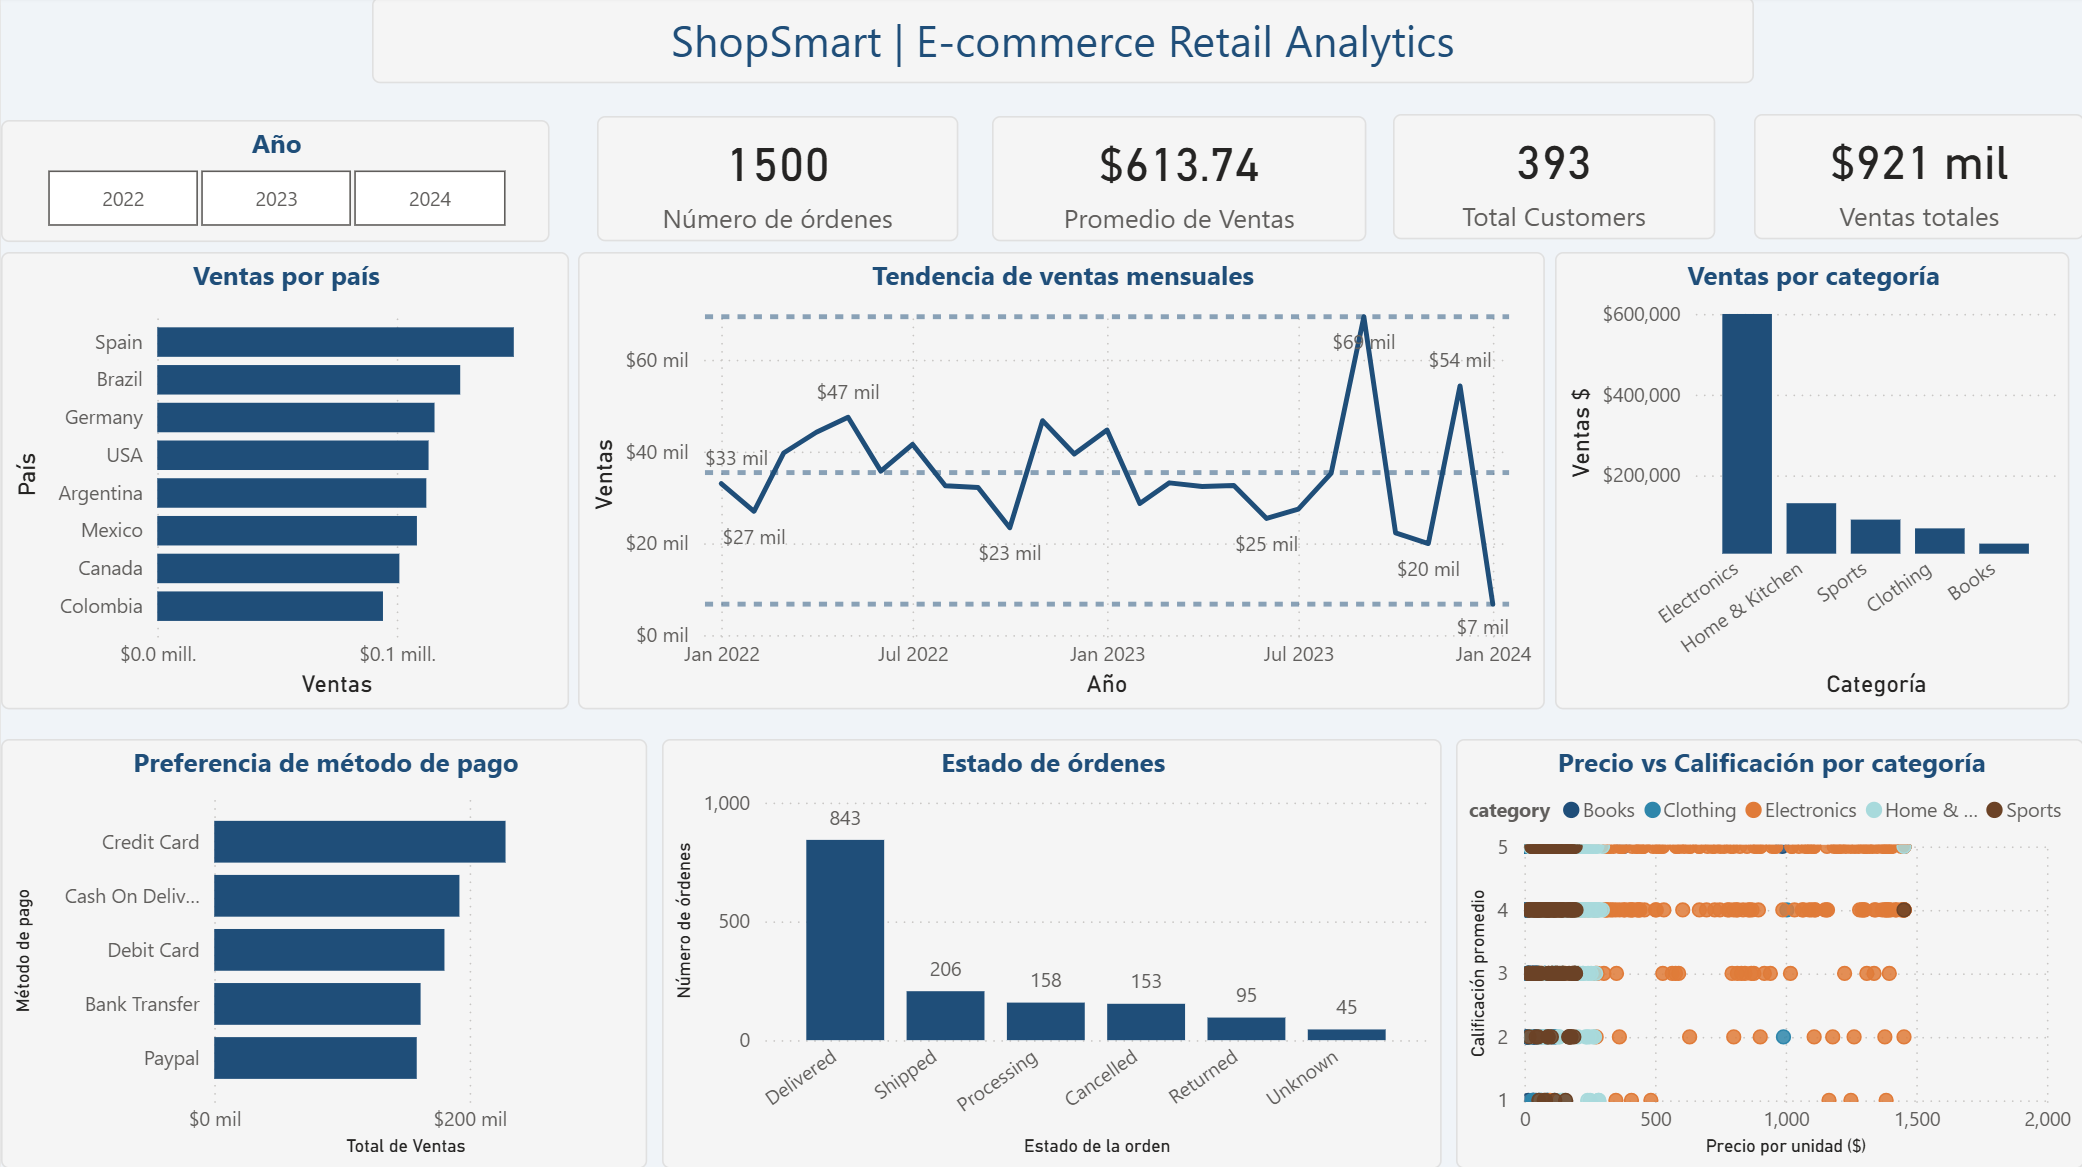

What the dashboard file says about the page in this screenshot:
{"tool":"powerbi","page":{"name":"Página 1","canvas":[1280,720],"ordinal":0},"visuals":[{"type":"columnChart","title":"Ventas por categoría","fields":{"Category":["POWERBIecommerce_featured.category"],"Y":["Sum(POWERBIecommerce_featured.total_amount)"]},"box":[954.7,156.7,316,281.3],"z":0},{"type":"clusteredBarChart","title":"Ventas por país","fields":{"Category":["POWERBIecommerce_featured.country"],"Y":["Sum(POWERBIecommerce_featured.total_amount)"]},"box":[0,156.7,348.7,281.3],"z":1000},{"type":"lineChart","title":"Tendencia de ventas mensuales","fields":{"Y":["Sum(POWERBIecommerce_featured.total_amount)"],"Category":["POWERBIecommerce_featured.order_date.Variación.Jerarquía de fechas.Año","POWERBIecommerce_featured.order_date.Variación.Jerarquía de fechas.Trimestre","POWERBIecommerce_featured.order_date.Variación.Jerarquía de fechas.Mes"]},"box":[354.7,156.7,594,281.3],"z":2000},{"type":"clusteredBarChart","title":"Preferencia de método de pago","fields":{"Category":["POWERBIecommerce_featured.payment_method"],"Y":["Sum(POWERBIecommerce_featured.total_amount)"]},"box":[0,456,397.3,264],"z":3000},{"type":"card","fields":{"Values":["CountNonNull(POWERBIecommerce_featured.order_id)"]},"box":[366,73.3,222,76.7],"z":4000},{"type":"card","fields":{"Values":["Sum(POWERBIecommerce_featured.total_amount)"]},"box":[1076.7,72,203.3,76.7],"z":5000},{"type":"card","fields":{"Values":["POWERBIecommerce_featured.Avg Order Value"]},"box":[608.7,73.3,230,76.7],"z":6000},{"type":"scatterChart","title":"Precio vs Calificación por categoría","fields":{"X":["Sum(POWERBIecommerce_featured.unit_price)"],"Y":["Sum(POWERBIecommerce_featured.rating)"],"Category":["POWERBIecommerce_featured.order_id"],"Series":["POWERBIecommerce_featured.category"]},"box":[894,456,386,264],"z":7000},{"type":"columnChart","title":"Estado de órdenes","fields":{"Category":["POWERBIecommerce_featured.order_status"],"Y":["CountNonNull(POWERBIecommerce_featured.order_id)"]},"box":[406,456,478.7,264],"z":8000},{"type":"card","fields":{"Values":["POWERBIecommerce_featured.Total Customers"]},"box":[855.3,72,198,76.7],"z":9000},{"type":"textbox","box":[227.8,0,848.9,53.3],"z":10000},{"type":"slicer","title":"Año","fields":{"Values":["POWERBIecommerce_featured.year"]},"box":[0,75.3,336.7,74.7],"z":11000}]}

Visuals, with their boxes in screenshot pixels (x1, y1, x2, y2), scaled from the page's 1280x720 canvas onto the 2082x1167 screenshot:
"Ventas por categoría" columnChart: (1553,254,2067,710)
"Ventas por país" clusteredBarChart: (0,254,567,710)
"Tendencia de ventas mensuales" lineChart: (577,254,1543,710)
"Preferencia de método de pago" clusteredBarChart: (0,739,646,1166)
card - CountNonNull(POWERBIecommerce_featured.order_id): (595,119,956,243)
card - Sum(POWERBIecommerce_featured.total_amount): (1751,117,2081,241)
card - POWERBIecommerce_featured.Avg Order Value: (990,119,1364,243)
"Precio vs Calificación por categoría" scatterChart: (1454,739,2081,1166)
"Estado de órdenes" columnChart: (660,739,1439,1166)
card - POWERBIecommerce_featured.Total Customers: (1391,117,1713,241)
textbox: (371,0,1751,86)
"Año" slicer: (0,122,548,243)
